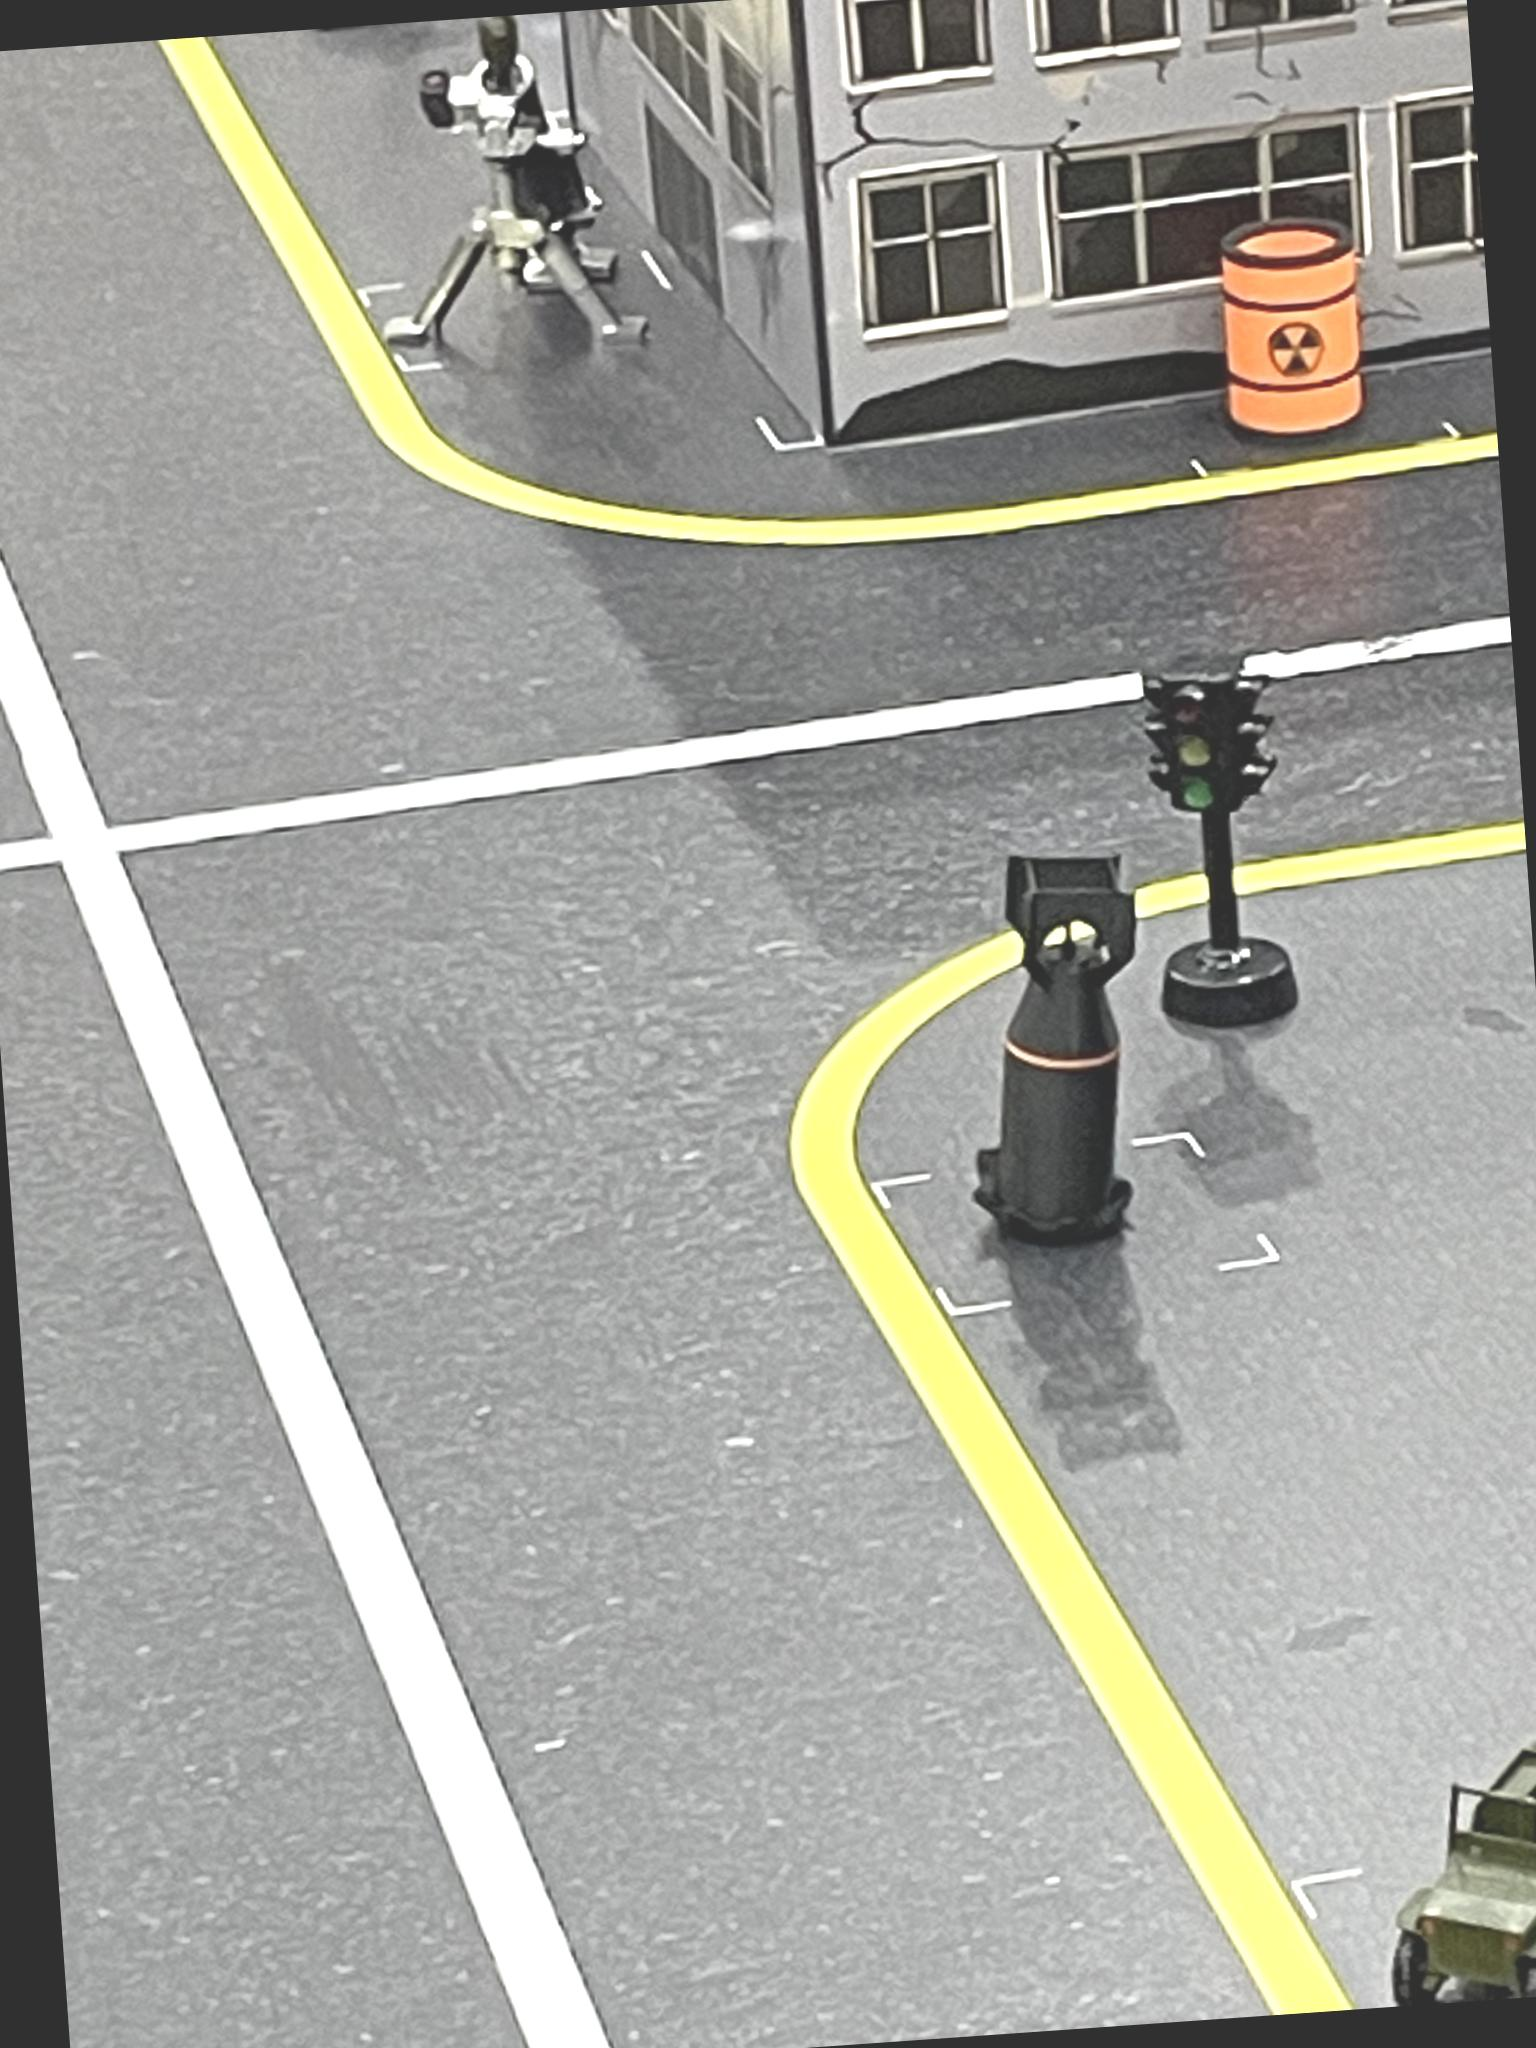Car: (1362, 1714, 1536, 2008)
Hazmat: (1223, 218, 1362, 434)
Missile: (942, 850, 1168, 1274)
Mortar: (349, 10, 655, 387)
